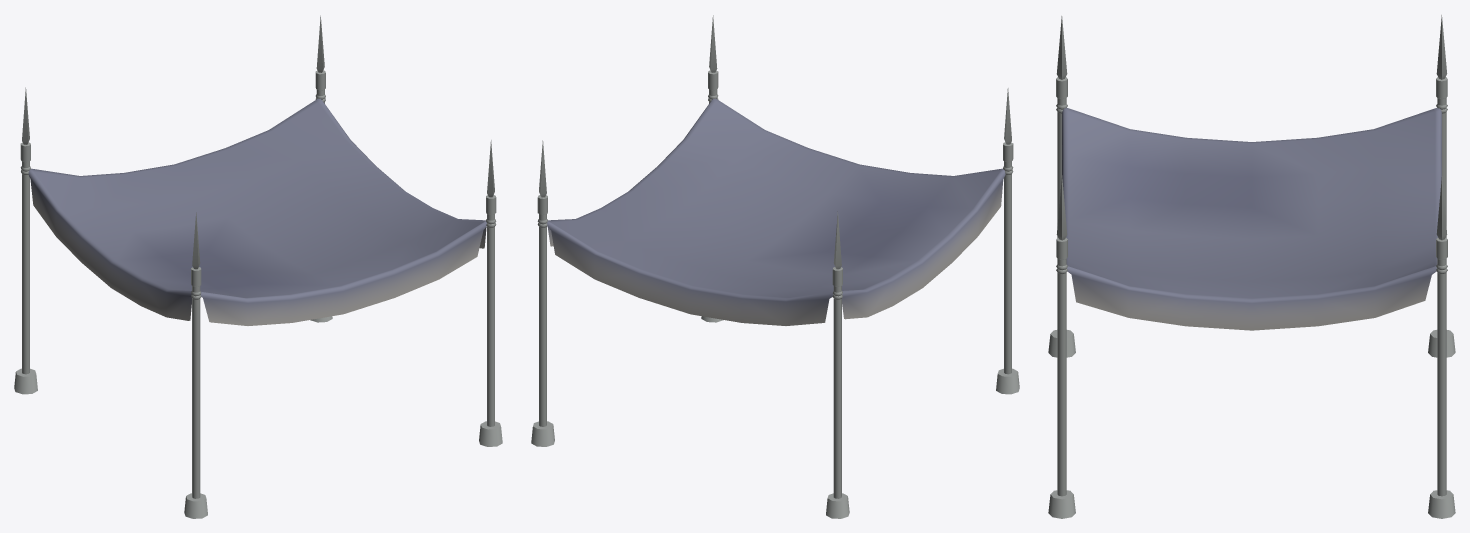
3 renders of one model, left to right at view 1: azimuth 30°, elevation 25°; view 2: azimuth 150°, elevation 25°; view 3: azimuth 270°, elevation 25°, orthographic. The views are drawn at different scales.
Visible parts, largest first — view 1: G:\FFXIV-MapTools\exports\s1f2\bg\ffxiv\sea_s1\fld\common\bg; view 2: G:\FFXIV-MapTools\exports\s1f2\bg\ffxiv\sea_s1\fld\common\bg; view 3: G:\FFXIV-MapTools\exports\s1f2\bg\ffxiv\sea_s1\fld\common\bg.
Boxes of the visible parts, left/top/right/bottom form: G:\FFXIV-MapTools\exports\s1f2\bg\ffxiv\sea_s1\fld\common\bg: left=14, top=15, right=502, bottom=518; G:\FFXIV-MapTools\exports\s1f2\bg\ffxiv\sea_s1\fld\common\bg: left=531, top=15, right=1019, bottom=518; G:\FFXIV-MapTools\exports\s1f2\bg\ffxiv\sea_s1\fld\common\bg: left=1048, top=15, right=1455, bottom=518.
Bounding box in the file's own units: 5.67 × 5.2 × 5.67.
